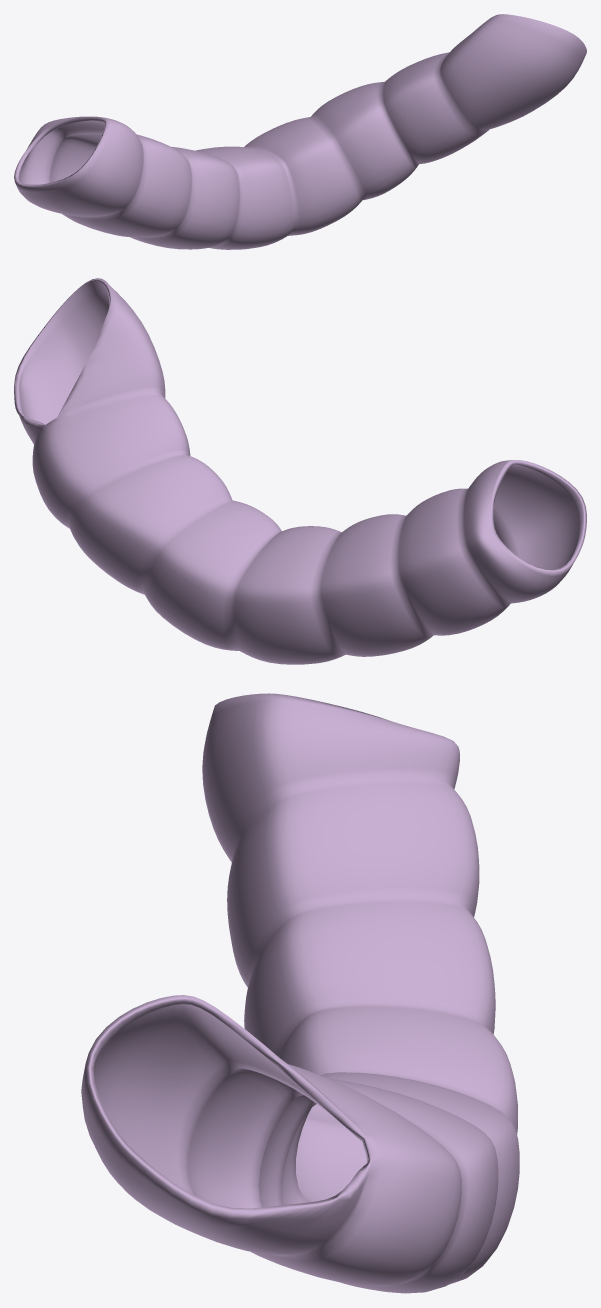
3 renders of one model, top to bottom at view 1: azimuth 30°, elevation 25°; view 2: azimuth 150°, elevation 25°; view 3: azimuth 270°, elevation 25°, orthographic. The views are drawn at different scales.
Visible parts, largest first — view 1: 横结肠; view 2: 横结肠; view 3: 横结肠.
Boxes of the visible parts, x1,y1,x2,y2 form: 横结肠: (14,14,586,249); 横结肠: (14,278,586,664); 横结肠: (81,693,519,1293).
Bounding box in the file's own units: 0.2747 × 0.111 × 0.1007.
